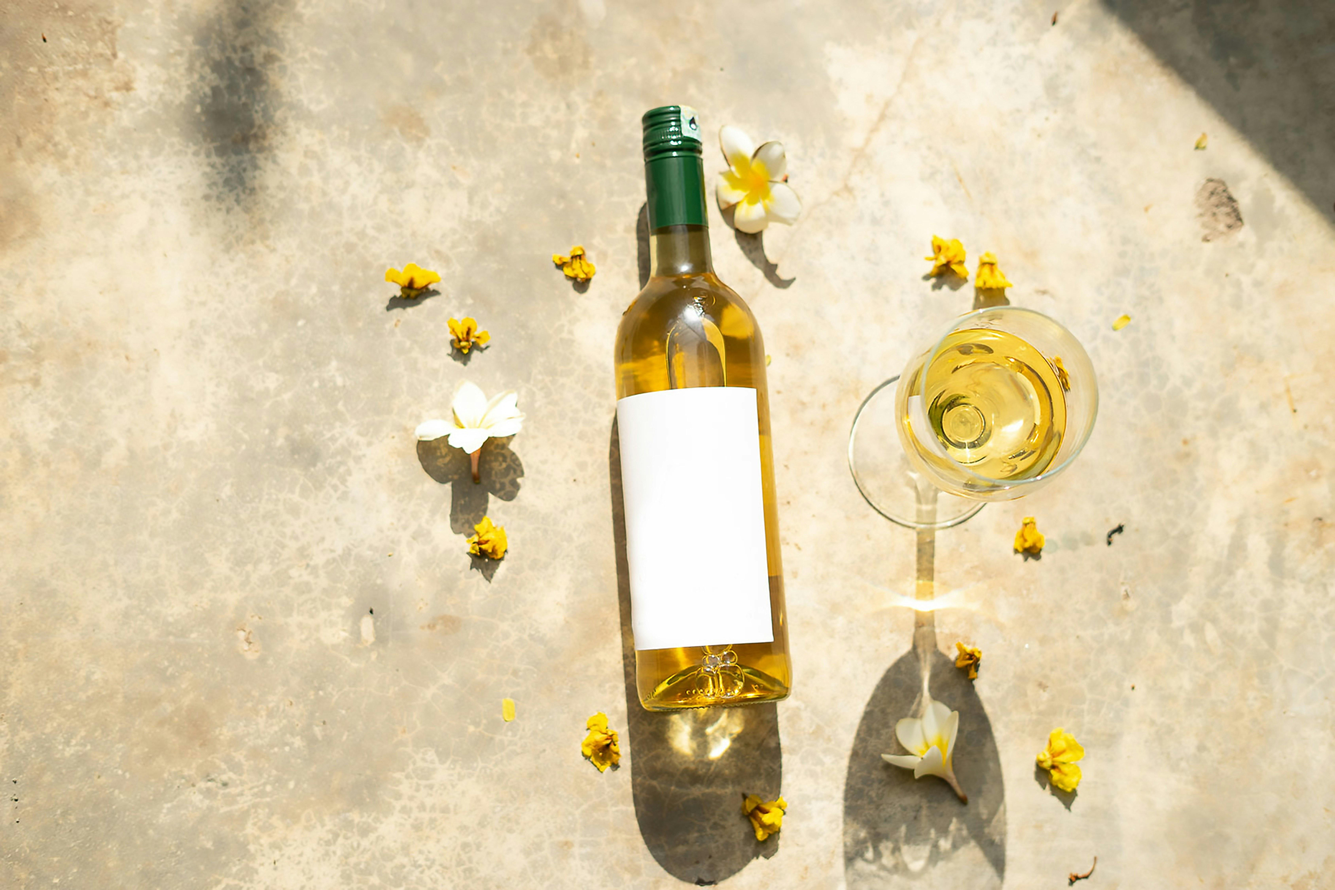Bottle-Detection: (564, 77, 850, 757)
